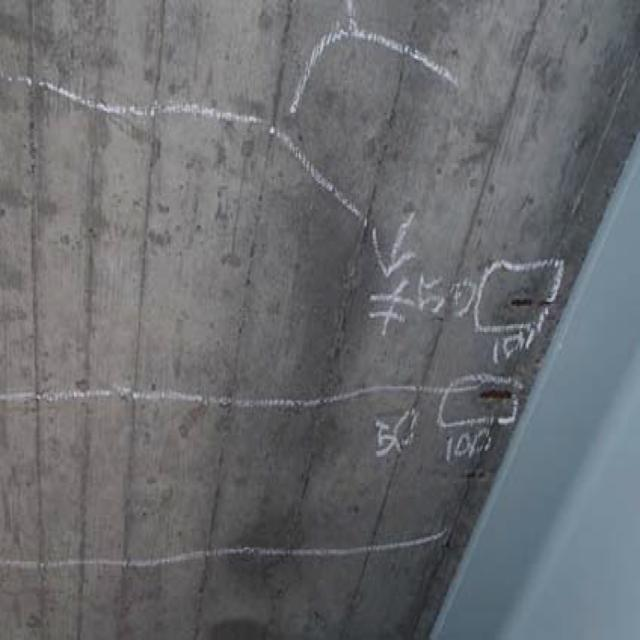spalling: (446, 240, 557, 503)
